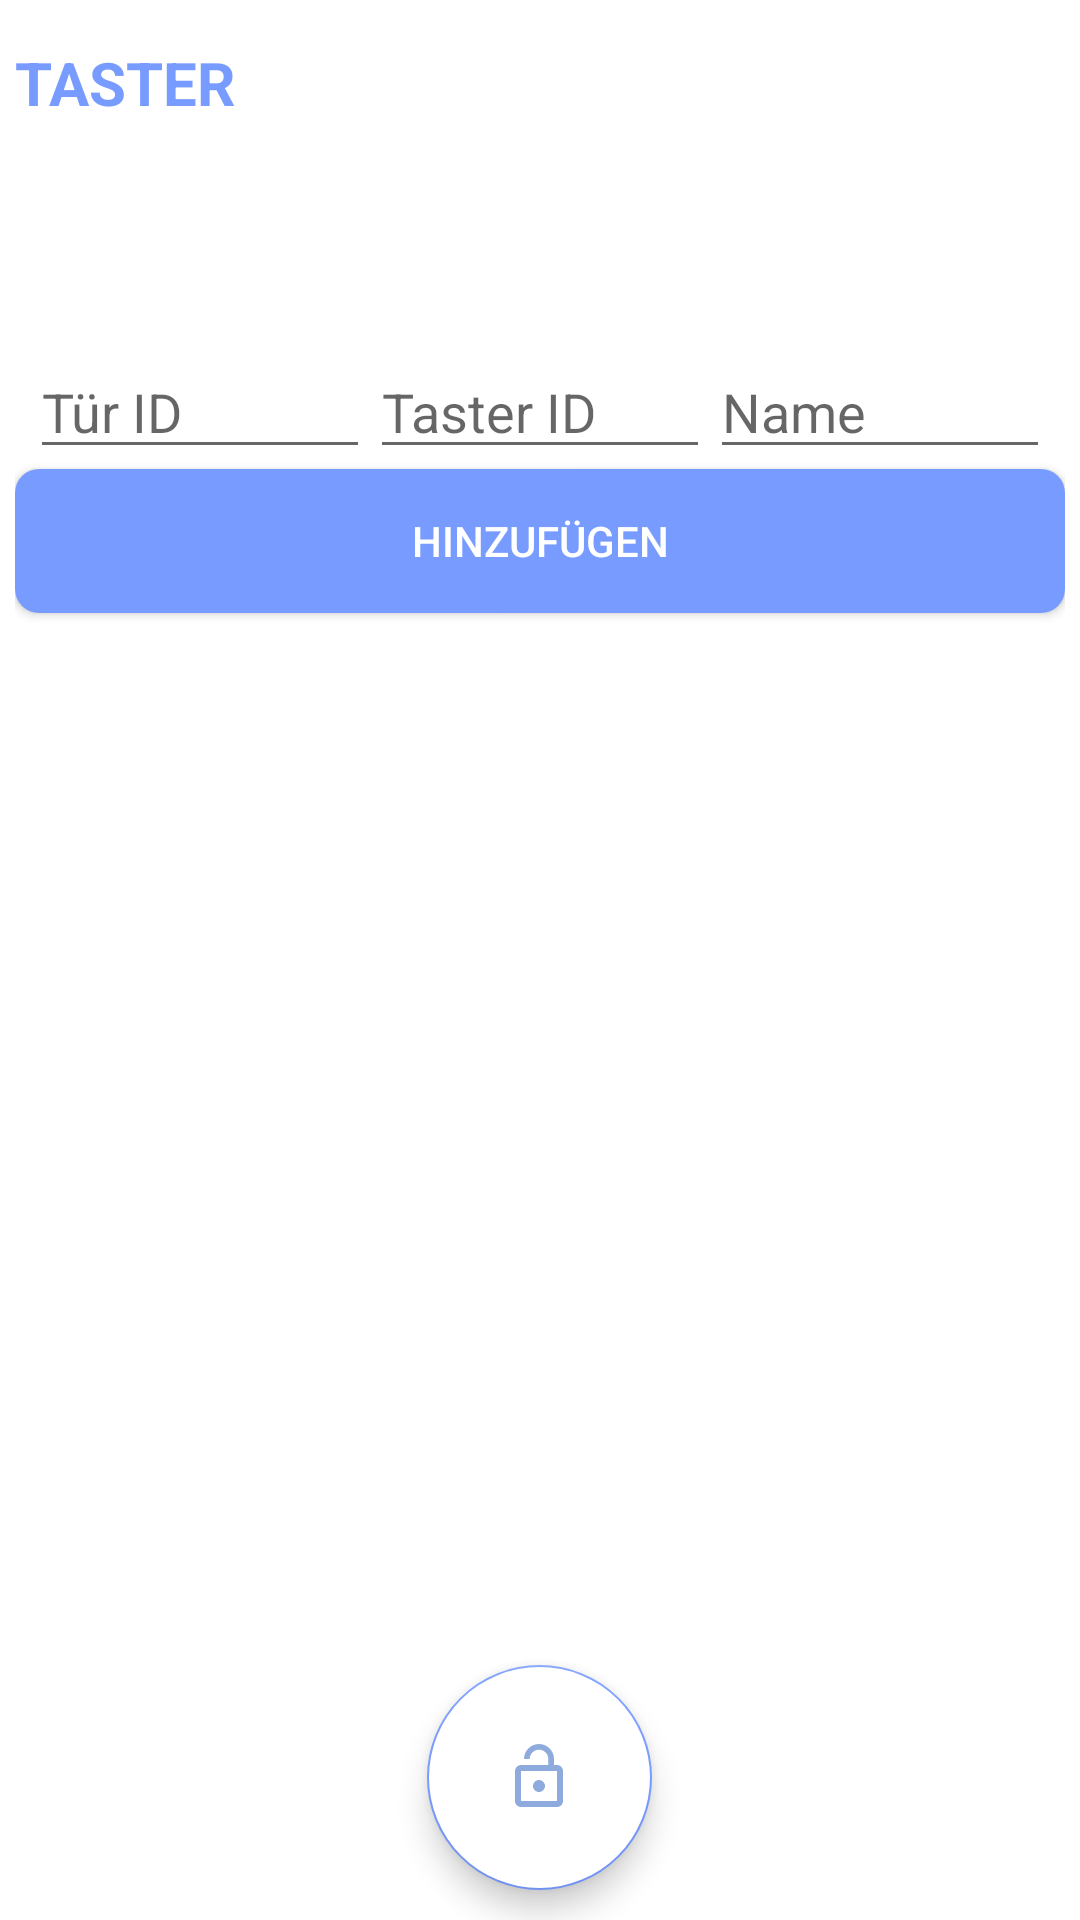

Screen size 1080×1920. Icon name, then its box in pixels as (x1, y1, x2, y2):
lock open: (427, 1665, 652, 1890)
